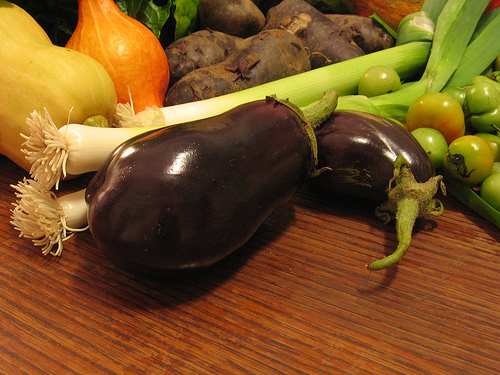eggplant: (84, 82, 346, 287), (303, 100, 432, 274)
